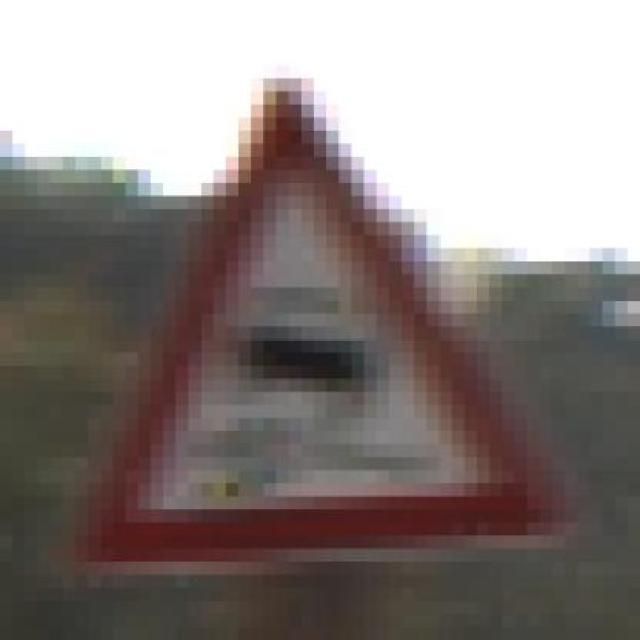Slippery Road Ahead: (50, 65, 578, 562)
